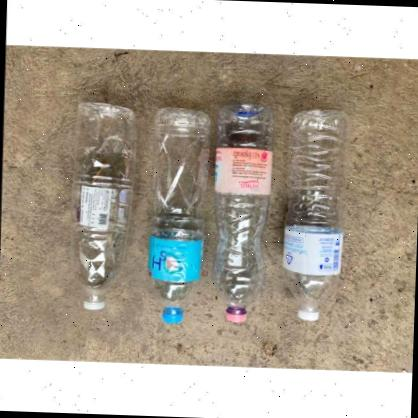bottle: (279, 106, 351, 322), (144, 116, 215, 334), (67, 100, 140, 312), (210, 101, 276, 324)
cap: (296, 307, 318, 322), (226, 309, 248, 323), (162, 310, 183, 324), (82, 298, 104, 311)
label: (72, 181, 134, 232), (281, 228, 345, 276), (216, 146, 273, 196), (150, 237, 204, 280)
